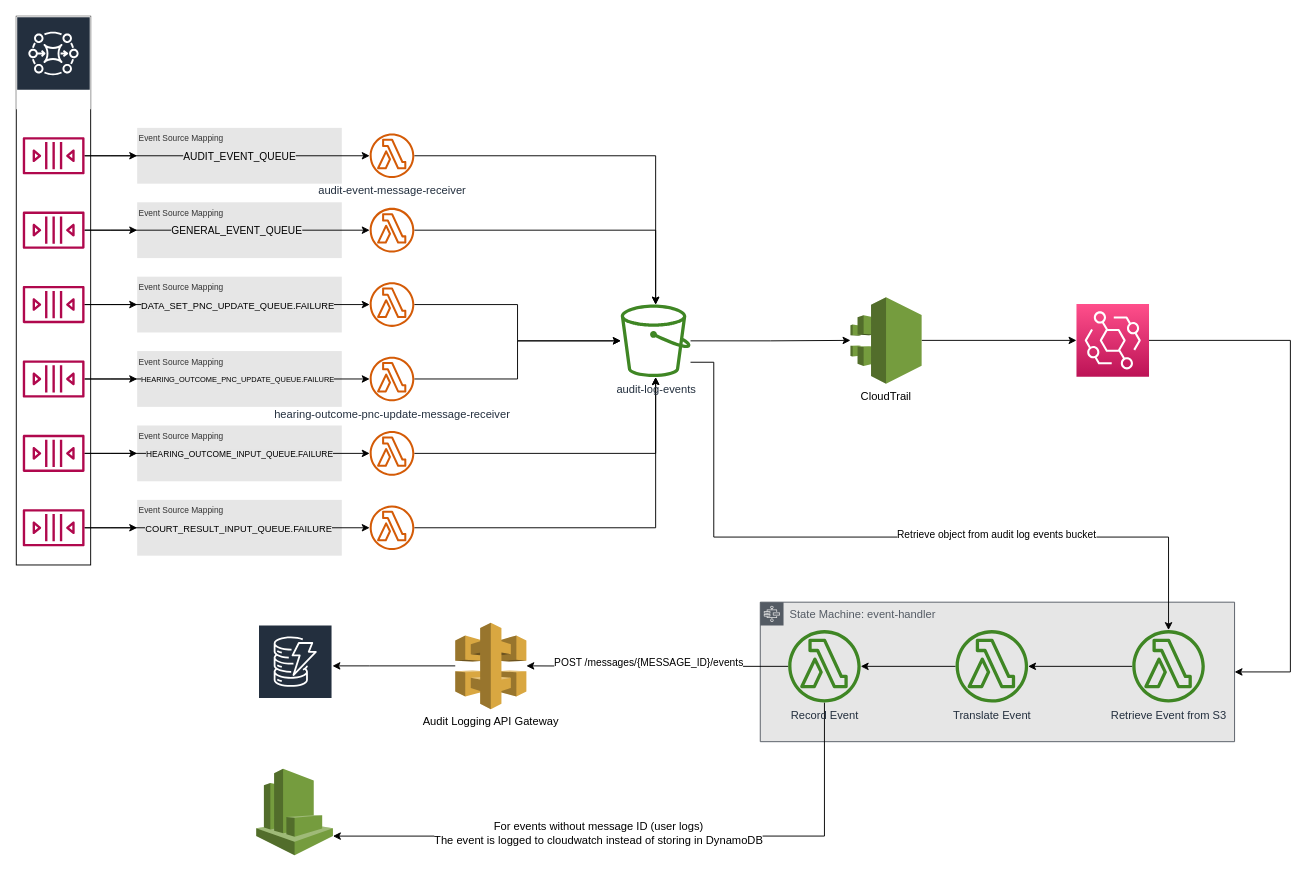
Some shapes in this 1314 by 891 pixel diagram are drawn without their labels. The shapes that lost their labels are listed below. From the top down, each one's centre as x and y in pixels, then its label:
the point at 53,62: Amazon MQ
the point at 391,229: general-event-message-receiver
the point at 391,304: data-set-pnc-update-message-receiver
the point at 1112,340: EventBridge Rule for PutObject
the point at 391,453: hearing-outcome-input-message-receiver
the point at 391,527: court-result-input-message-receiver
the point at 294,675: DynamoDB
the point at 294,811: Cloudwatch logs
